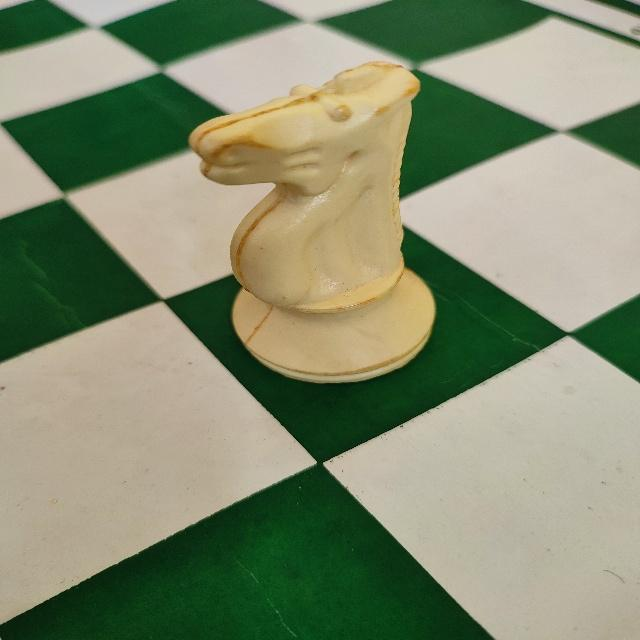Knight: (187, 57, 436, 390)
